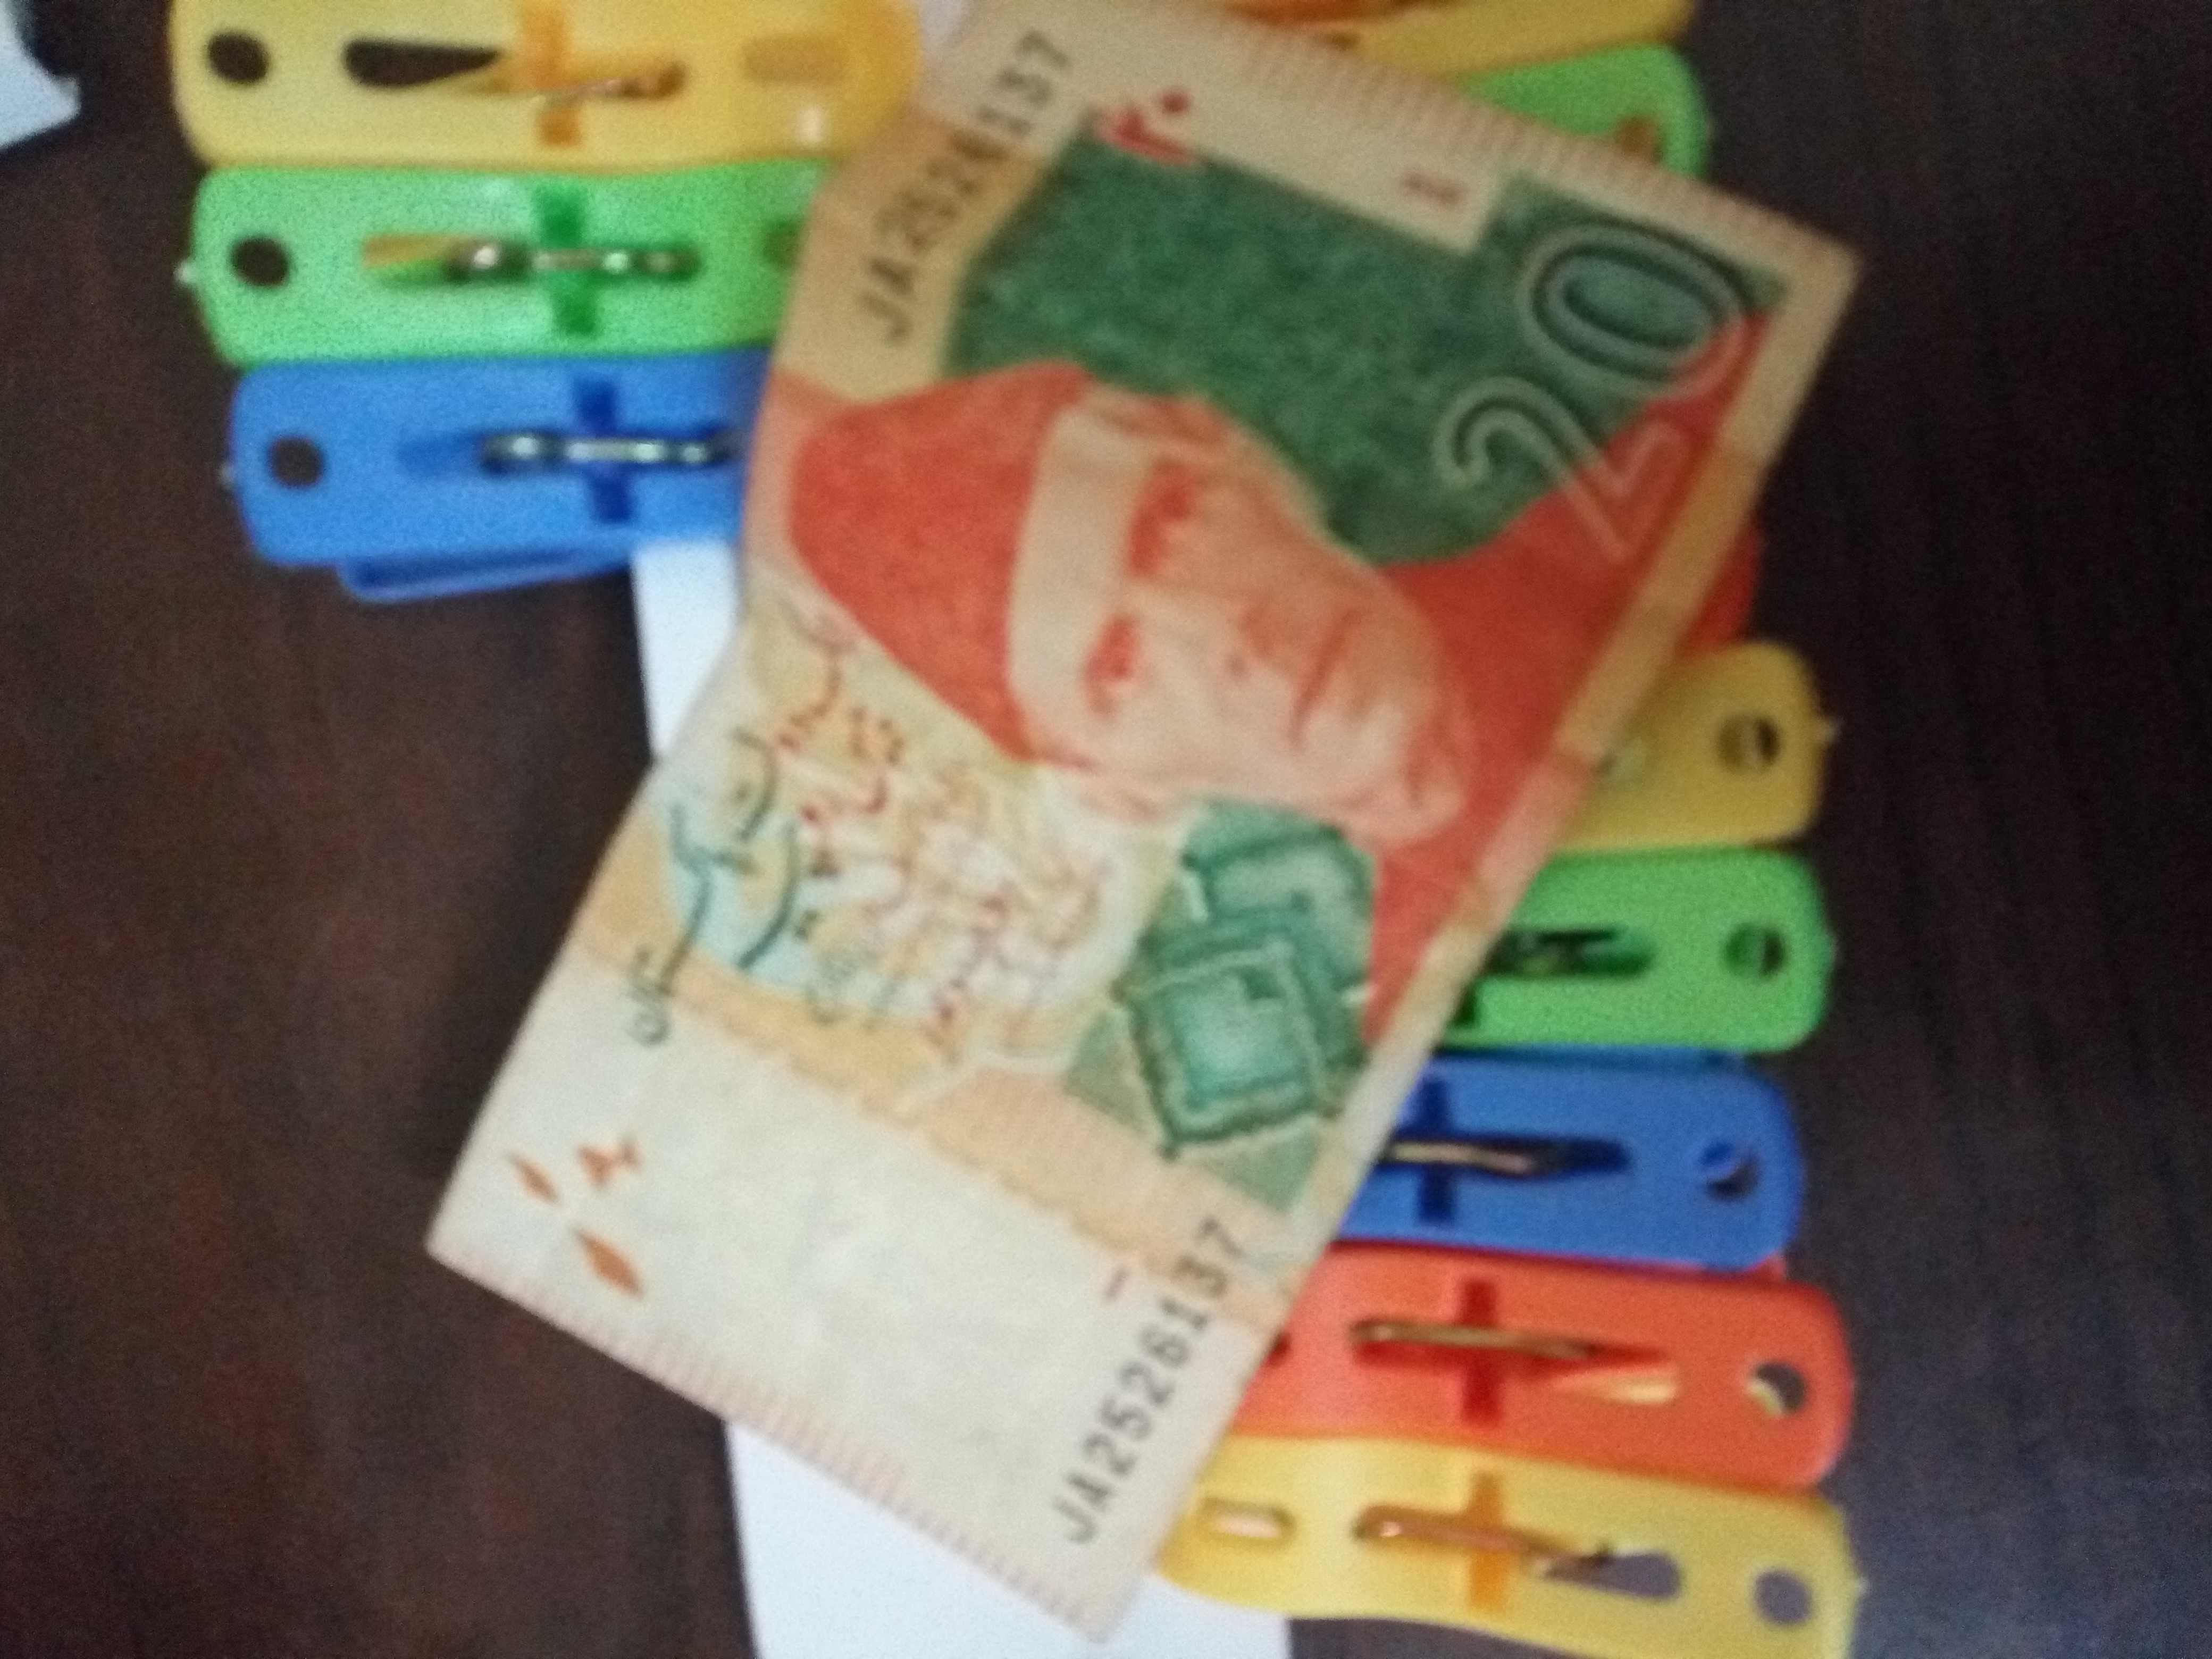20 rupee: (354, 148, 1893, 1511)
